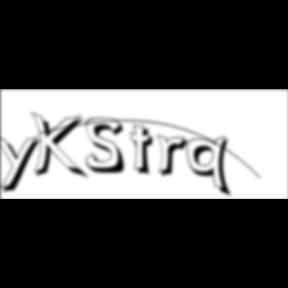K: (32, 110, 90, 182)
S: (86, 117, 132, 176)
q: (188, 135, 236, 200)
r: (157, 134, 195, 180)
t: (130, 124, 162, 179)
y: (0, 132, 46, 196)
